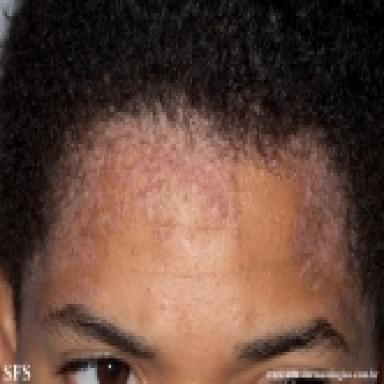Darier_s-Disease: (23, 107, 373, 336)
